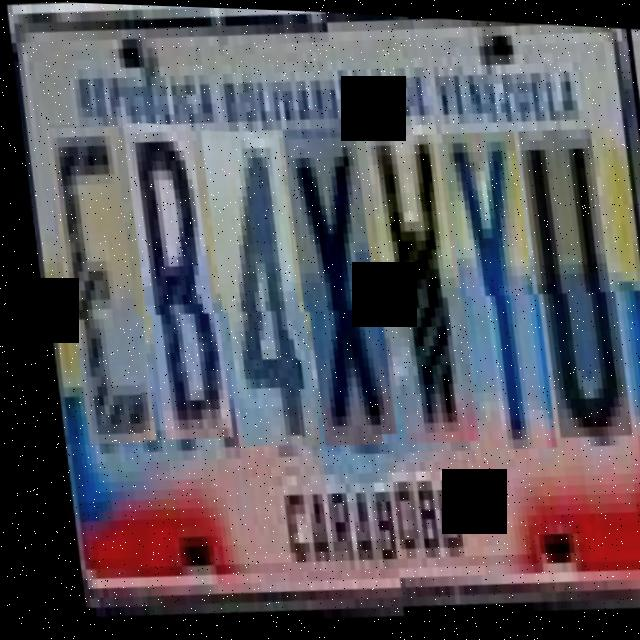4: (195, 128, 314, 453)
B: (117, 121, 226, 445)
E: (41, 123, 149, 447)
U: (514, 140, 625, 455)
W: (359, 135, 473, 460)
X: (277, 127, 391, 452)
Y: (437, 142, 551, 467)
